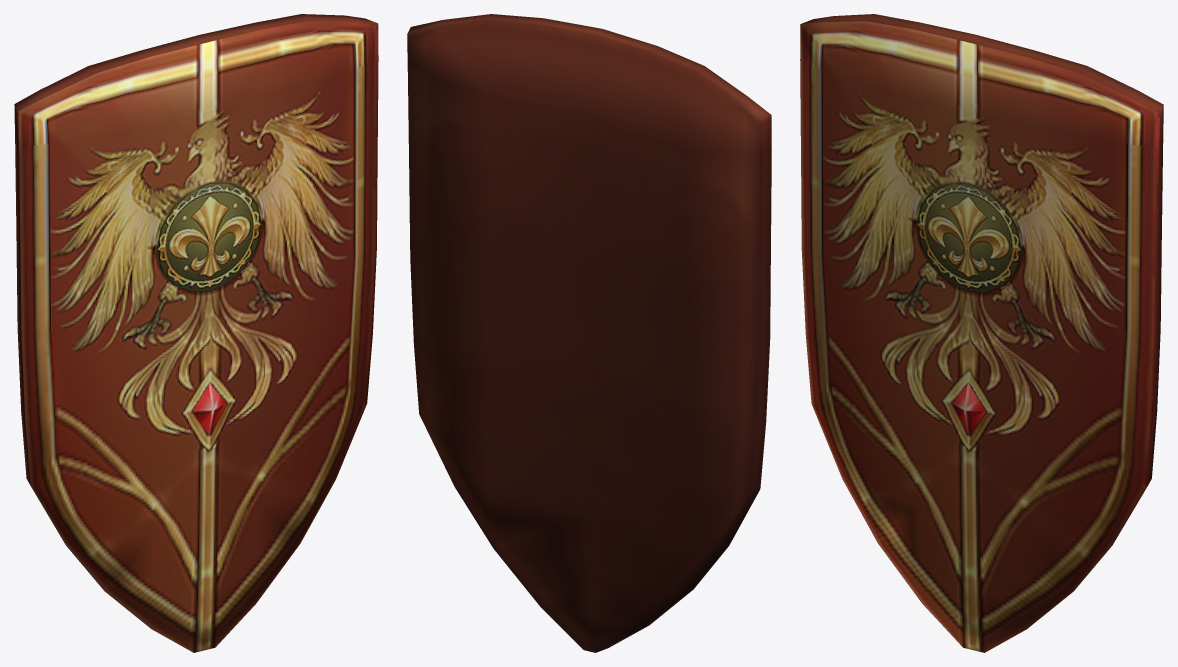
File: artifact_aeneas.FBX
The picture shows the model from 3 angles, left to right: view 1: azimuth 30°, elevation 25°; view 2: azimuth 150°, elevation 25°; view 3: azimuth 330°, elevation 25°; orthographic projection.
Parts seen in each view (by area): view 1: artifact_aeneas; view 2: artifact_aeneas; view 3: artifact_aeneas.
Boxes of the visible parts, box(x1,y1,x2,y2) form: artifact_aeneas: box(14, 14, 378, 652); artifact_aeneas: box(407, 14, 771, 652); artifact_aeneas: box(800, 14, 1163, 652).
Size of the model in its own units: 0.3221 by 0.5238 by 0.0368.
